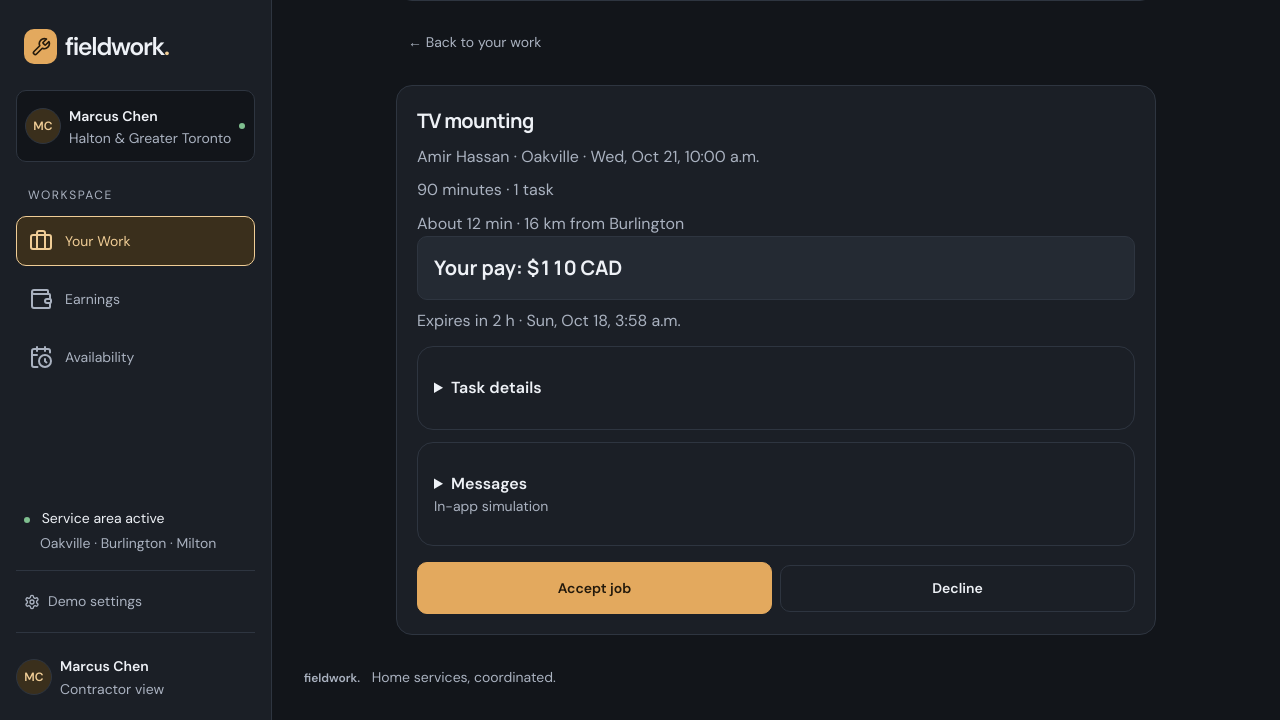
Test: Contractor workspace › asks why before declining, and can go back
This screenshot has width=1280, height=720.
(page scrolled)
What coordinates should you click on to do the following:
click the button "Decline"
I would click on:
 (958, 588)
Its box is [780,565,1135,612].
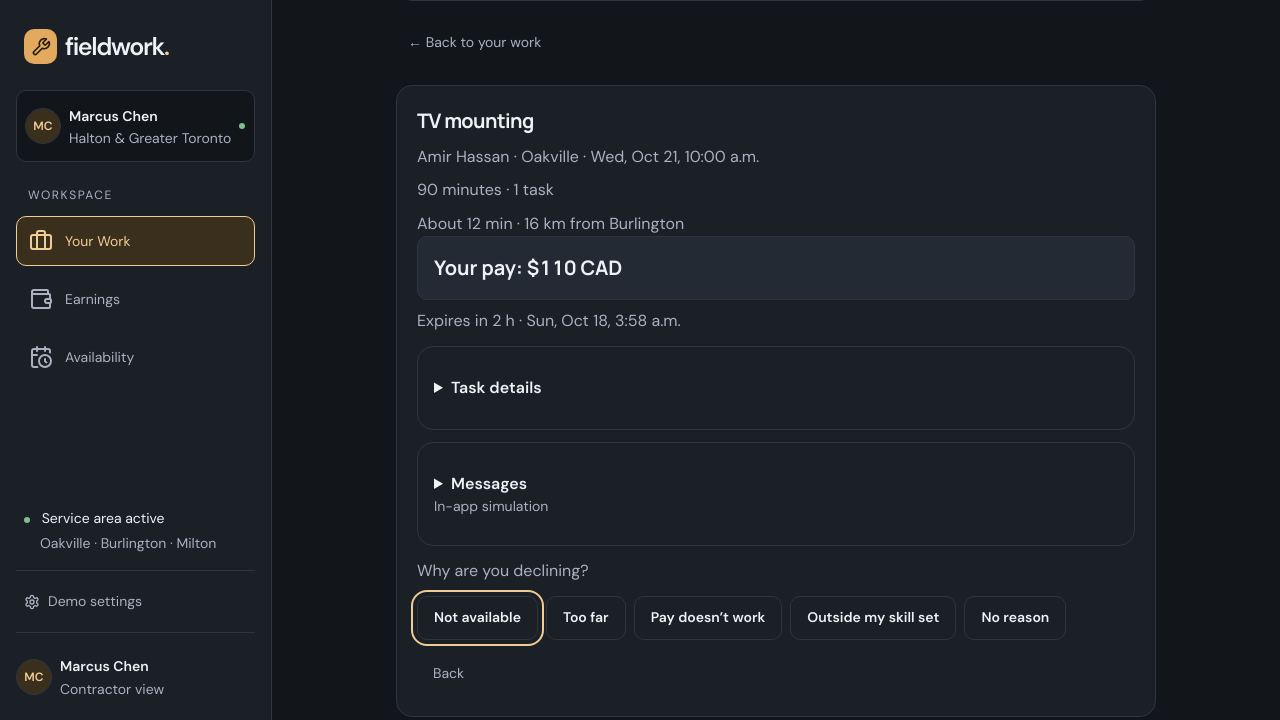
expect the element "Why are you declining?" is shown: met, box [417,558,1135,696]
What coordinates should you click on to do the following:
click the button "Back"
I would click on:
 (449, 673)
Its box is [417,652,1135,696].
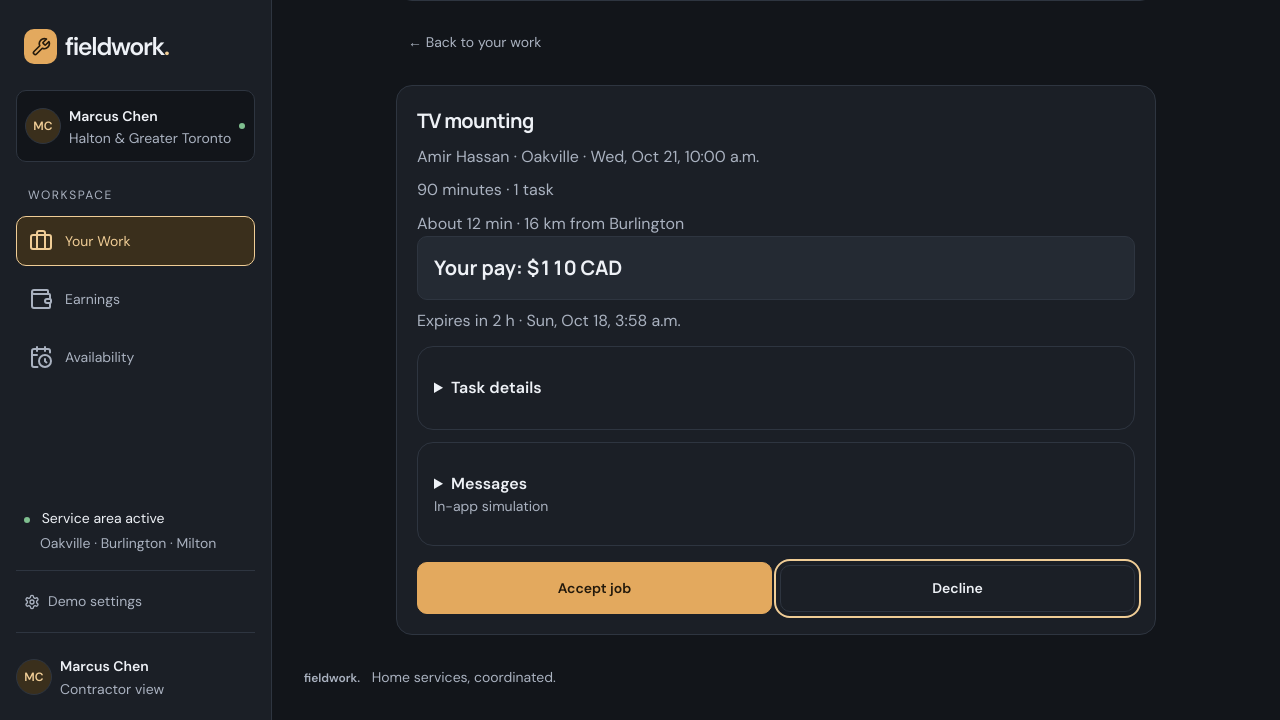
expect the text "Why are you declining?" is gone: met
expect the button "Accept job" is shown: met, box [417,562,772,614]
